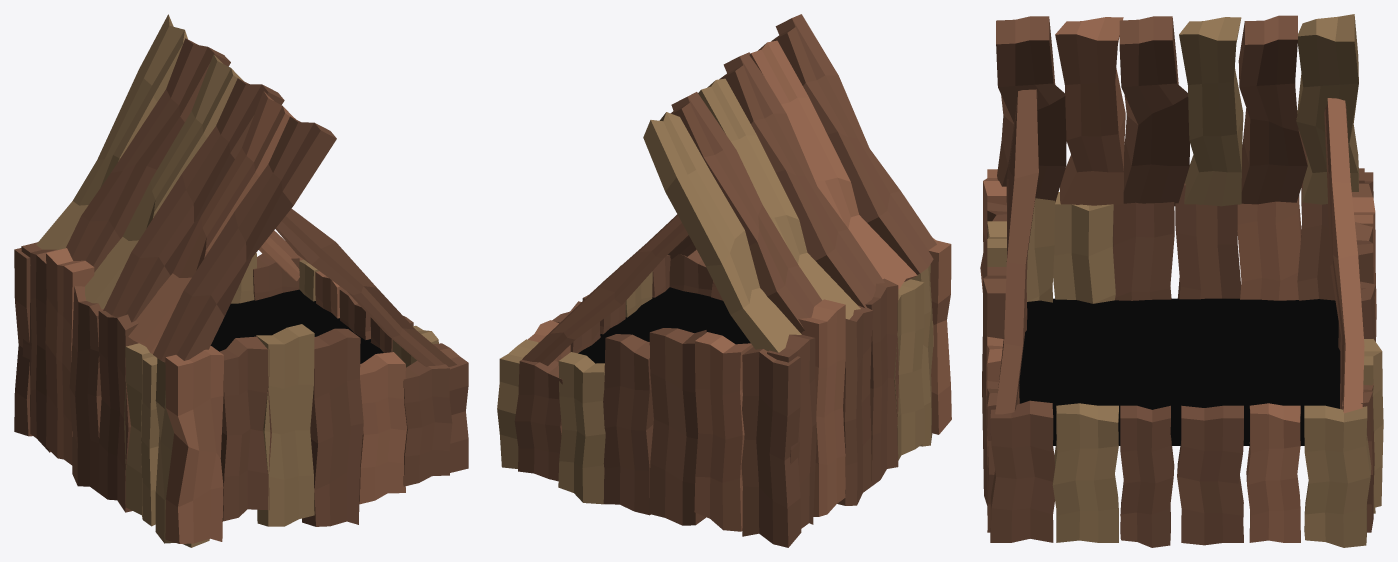
The model's file is Tunnel_Conveyor.fbx.
3 renders of one model, left to right at view 1: azimuth 30°, elevation 25°; view 2: azimuth 150°, elevation 25°; view 3: azimuth 270°, elevation 25°, orthographic. The views are drawn at different scales.
Visible parts, largest first — view 1: Tunnel Conveyor; view 2: Tunnel Conveyor; view 3: Tunnel Conveyor.
Part boxes in pixels (x1,y1,x2,y2): Tunnel Conveyor: (14, 14, 468, 547); Tunnel Conveyor: (497, 14, 951, 547); Tunnel Conveyor: (980, 14, 1383, 547).
Bounding box in the file's own units: 141 × 184 × 140.
